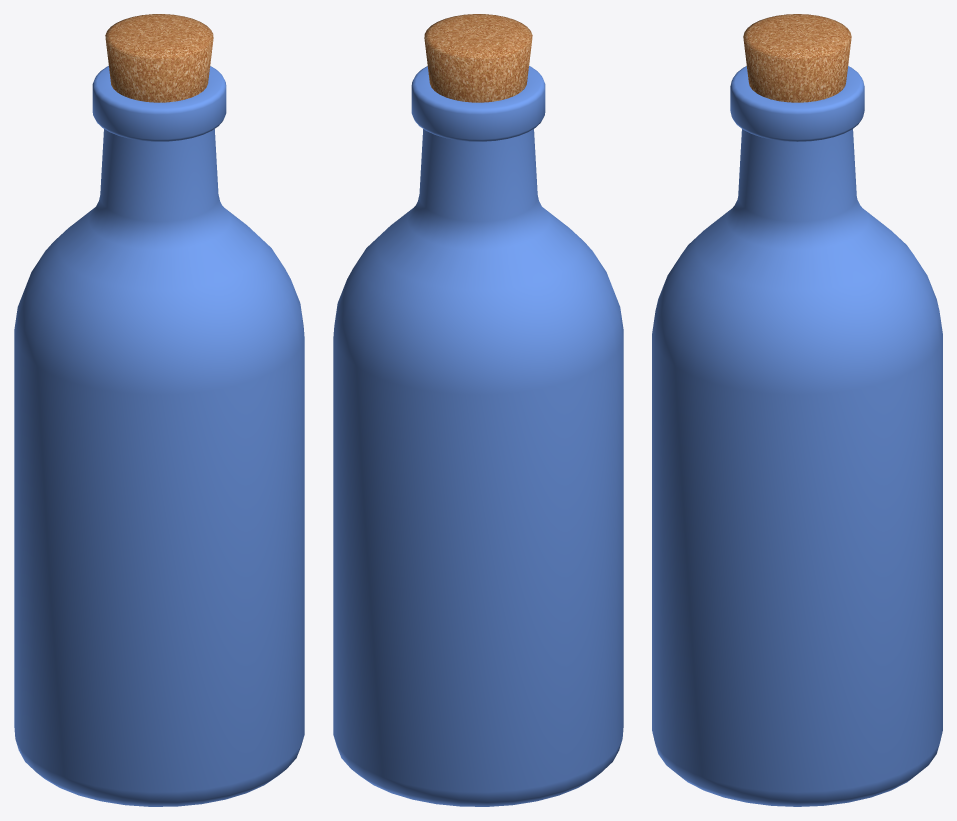
File: glass_bottle.glb
3 renders of one model, left to right at view 1: azimuth 30°, elevation 25°; view 2: azimuth 150°, elevation 25°; view 3: azimuth 270°, elevation 25°, orthographic.
Visible parts, largest first — view 1: Bottle, Cork; view 2: Bottle, Cork; view 3: Bottle, Cork.
Part boxes in pixels (left/top/right/bottom): Bottle: left=14, top=66, right=304, bottom=806; Cork: left=105, top=14, right=213, bottom=102; Bottle: left=333, top=66, right=623, bottom=806; Cork: left=424, top=14, right=532, bottom=102; Bottle: left=652, top=66, right=942, bottom=806; Cork: left=743, top=14, right=851, bottom=102.
Size of the model in its own units: 0.0871 by 0.2392 by 0.0871.
Materials: 2 (2 with a texture image).
